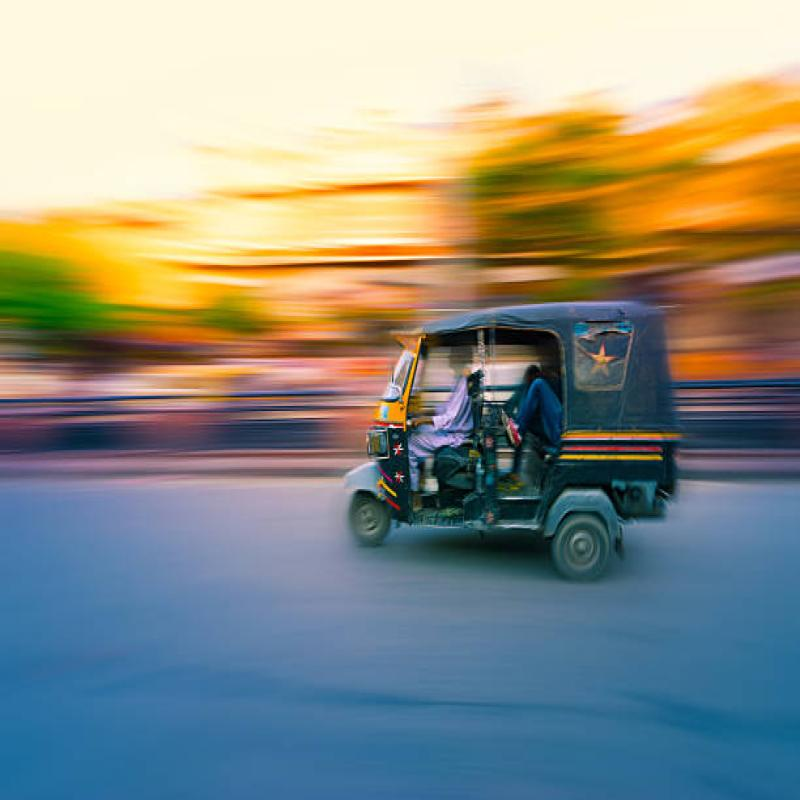auto: (299, 308, 698, 624)
